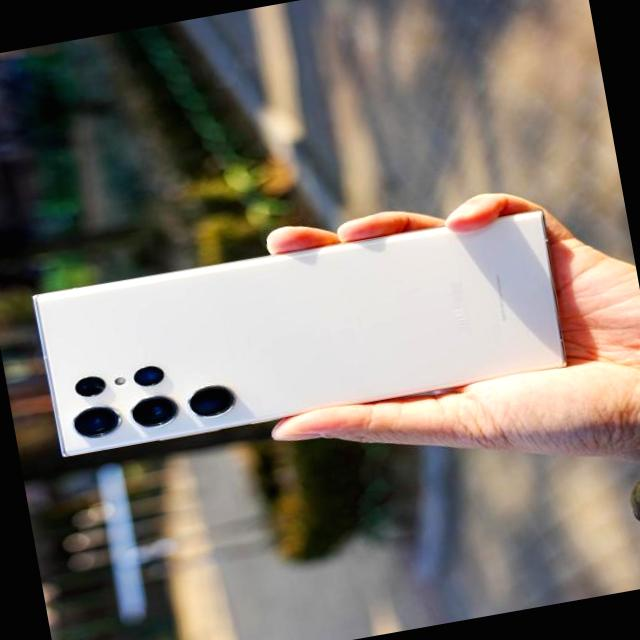lens_back: (66, 398, 126, 444), (184, 378, 239, 421), (126, 389, 182, 431)
phone: (25, 202, 574, 462)
